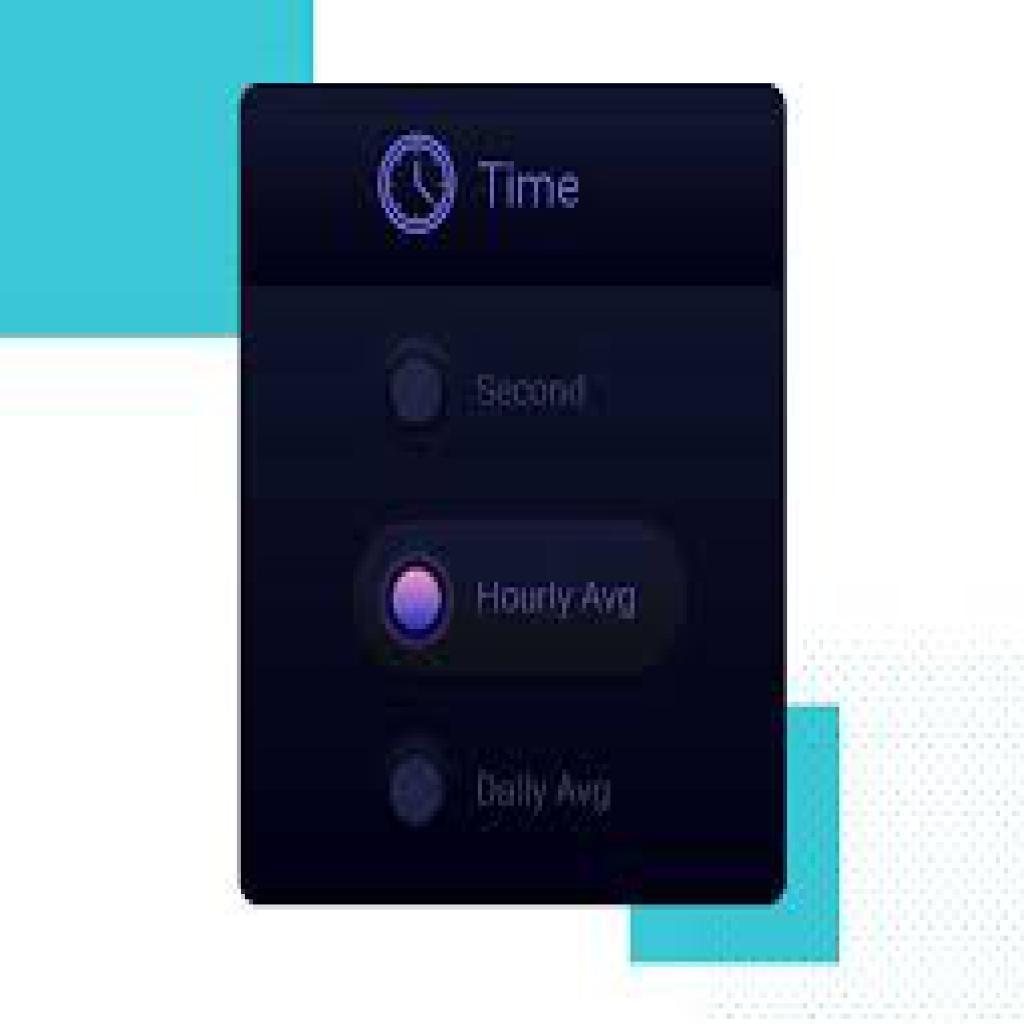radio: (373, 746, 461, 852), (378, 549, 460, 654), (377, 343, 458, 435)
